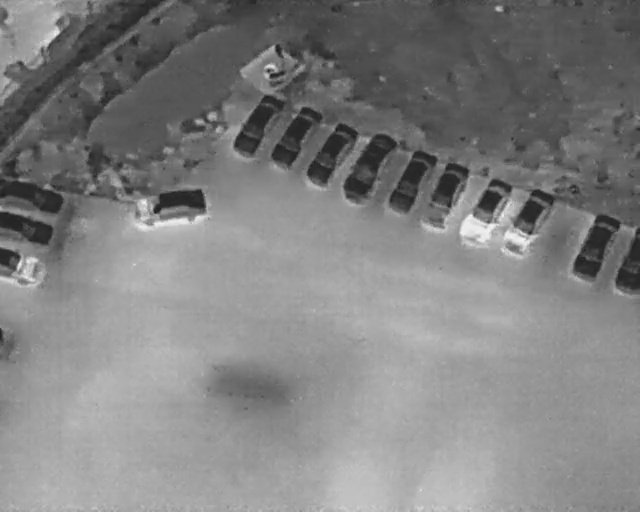Car: (332, 124, 408, 214), (452, 168, 521, 254), (495, 179, 563, 263), (223, 86, 292, 167), (262, 97, 329, 177), (299, 114, 366, 194), (379, 141, 443, 223), (415, 155, 475, 239), (567, 206, 624, 287), (130, 184, 211, 234), (0, 177, 66, 214), (0, 245, 49, 290), (0, 208, 53, 247), (612, 224, 639, 297)
